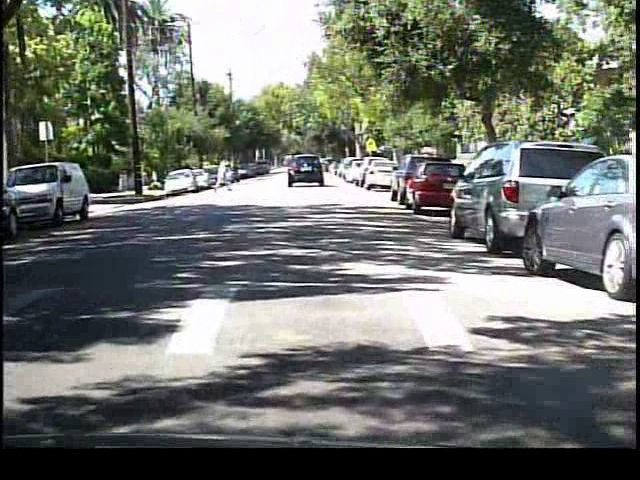person: (213, 154, 234, 195)
